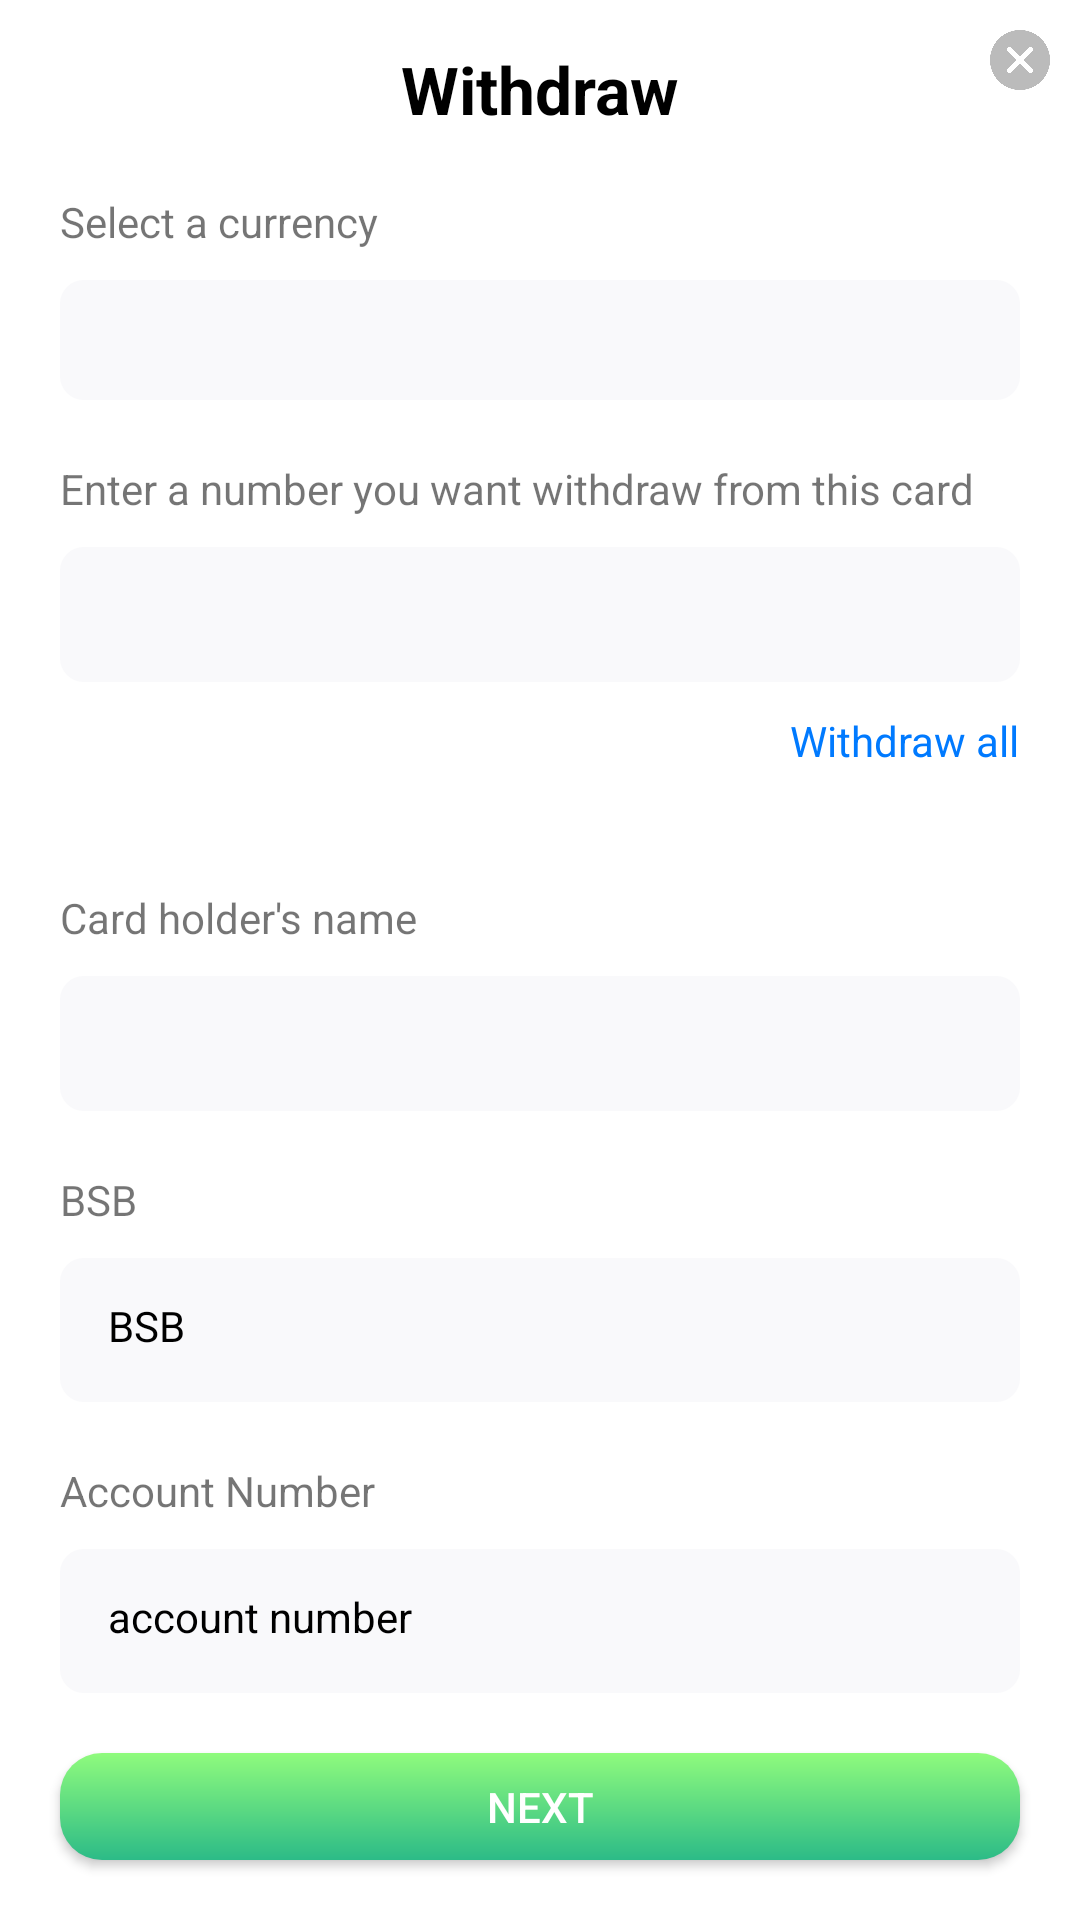

Where icons sit on this 1080 x 1920 app screen, as [x1, y1, x2, y2]:
cancel: [990, 30, 1050, 90]
